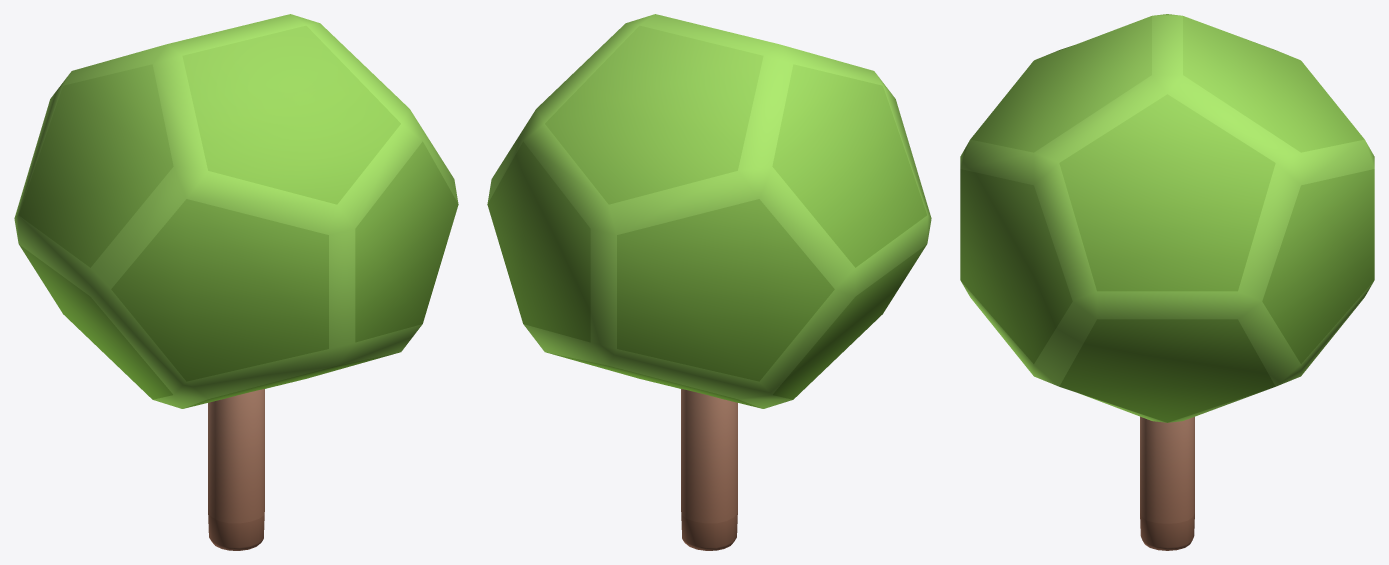
File: tree_5.fbx
3 views of the same model, side by side, from view 1: azimuth 30°, elevation 25°; view 2: azimuth 150°, elevation 25°; view 3: azimuth 270°, elevation 25° (orthographic). The views are drawn at different scales.
Parts seen in each view (by area): view 1: tree_5; view 2: tree_5; view 3: tree_5.
Boxes of the visible parts, x1,y1,x2,y2 form: tree_5: (14, 14, 458, 550); tree_5: (487, 14, 931, 550); tree_5: (960, 14, 1374, 550).
Size of the model in its own units: 185 by 247 by 186.
